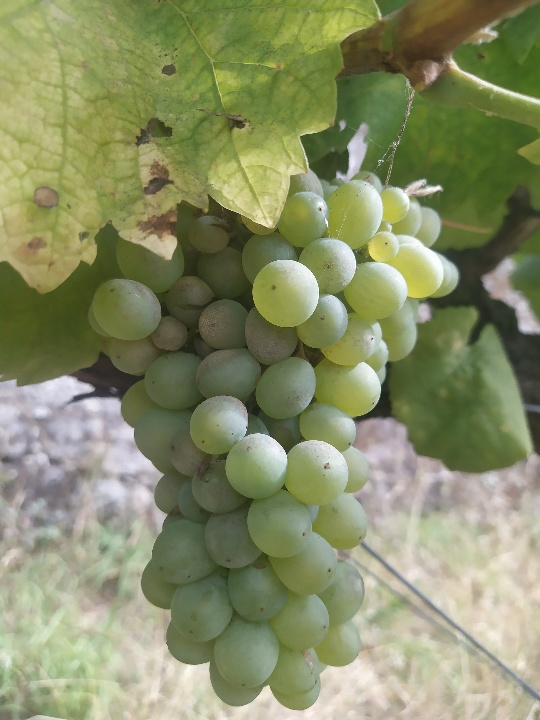grape: (89, 167, 465, 711)
